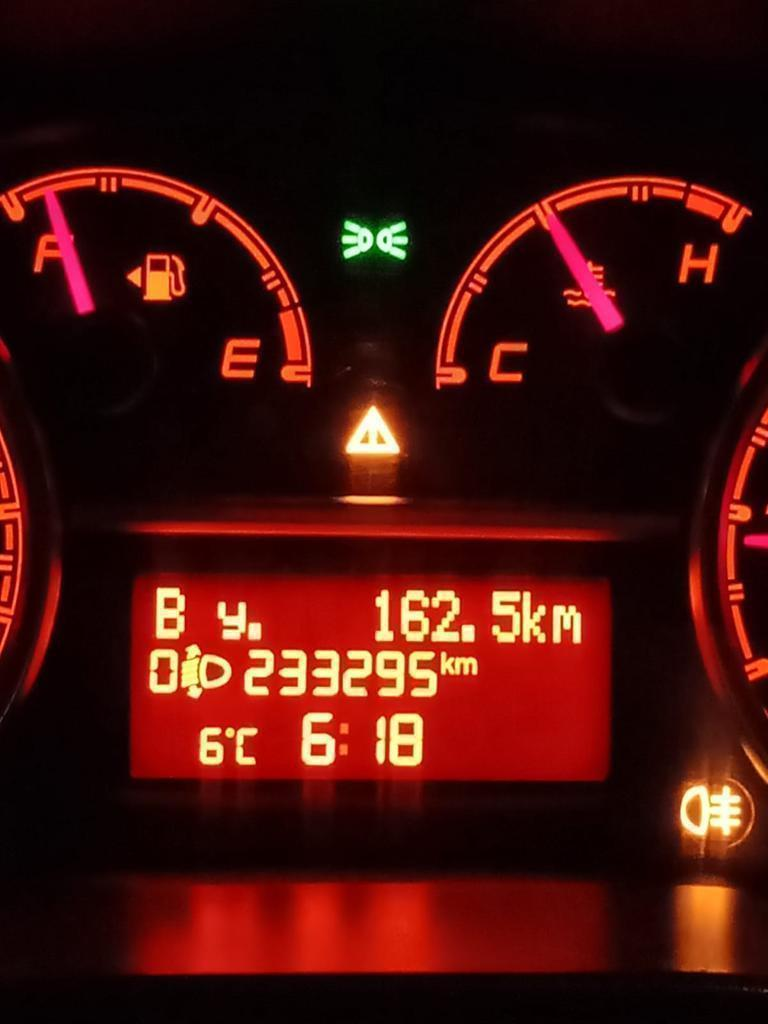,: (246, 619, 262, 642), (459, 622, 475, 643)
0: (146, 646, 179, 695)
1: (371, 585, 397, 644), (366, 712, 388, 765)
2: (431, 586, 459, 643), (245, 647, 274, 697), (343, 649, 371, 696)
3: (311, 648, 340, 698), (279, 648, 306, 697)
5: (487, 585, 520, 646), (406, 649, 437, 699)
6: (298, 709, 336, 768), (400, 587, 431, 643), (195, 726, 223, 767)
8: (389, 710, 425, 767)
9: (374, 648, 404, 697)
X: (154, 582, 186, 643), (520, 586, 546, 645), (213, 596, 246, 640), (552, 601, 583, 645), (234, 725, 257, 765), (335, 720, 352, 758), (454, 653, 476, 677), (439, 648, 454, 677)
odometer: (116, 561, 620, 791)
